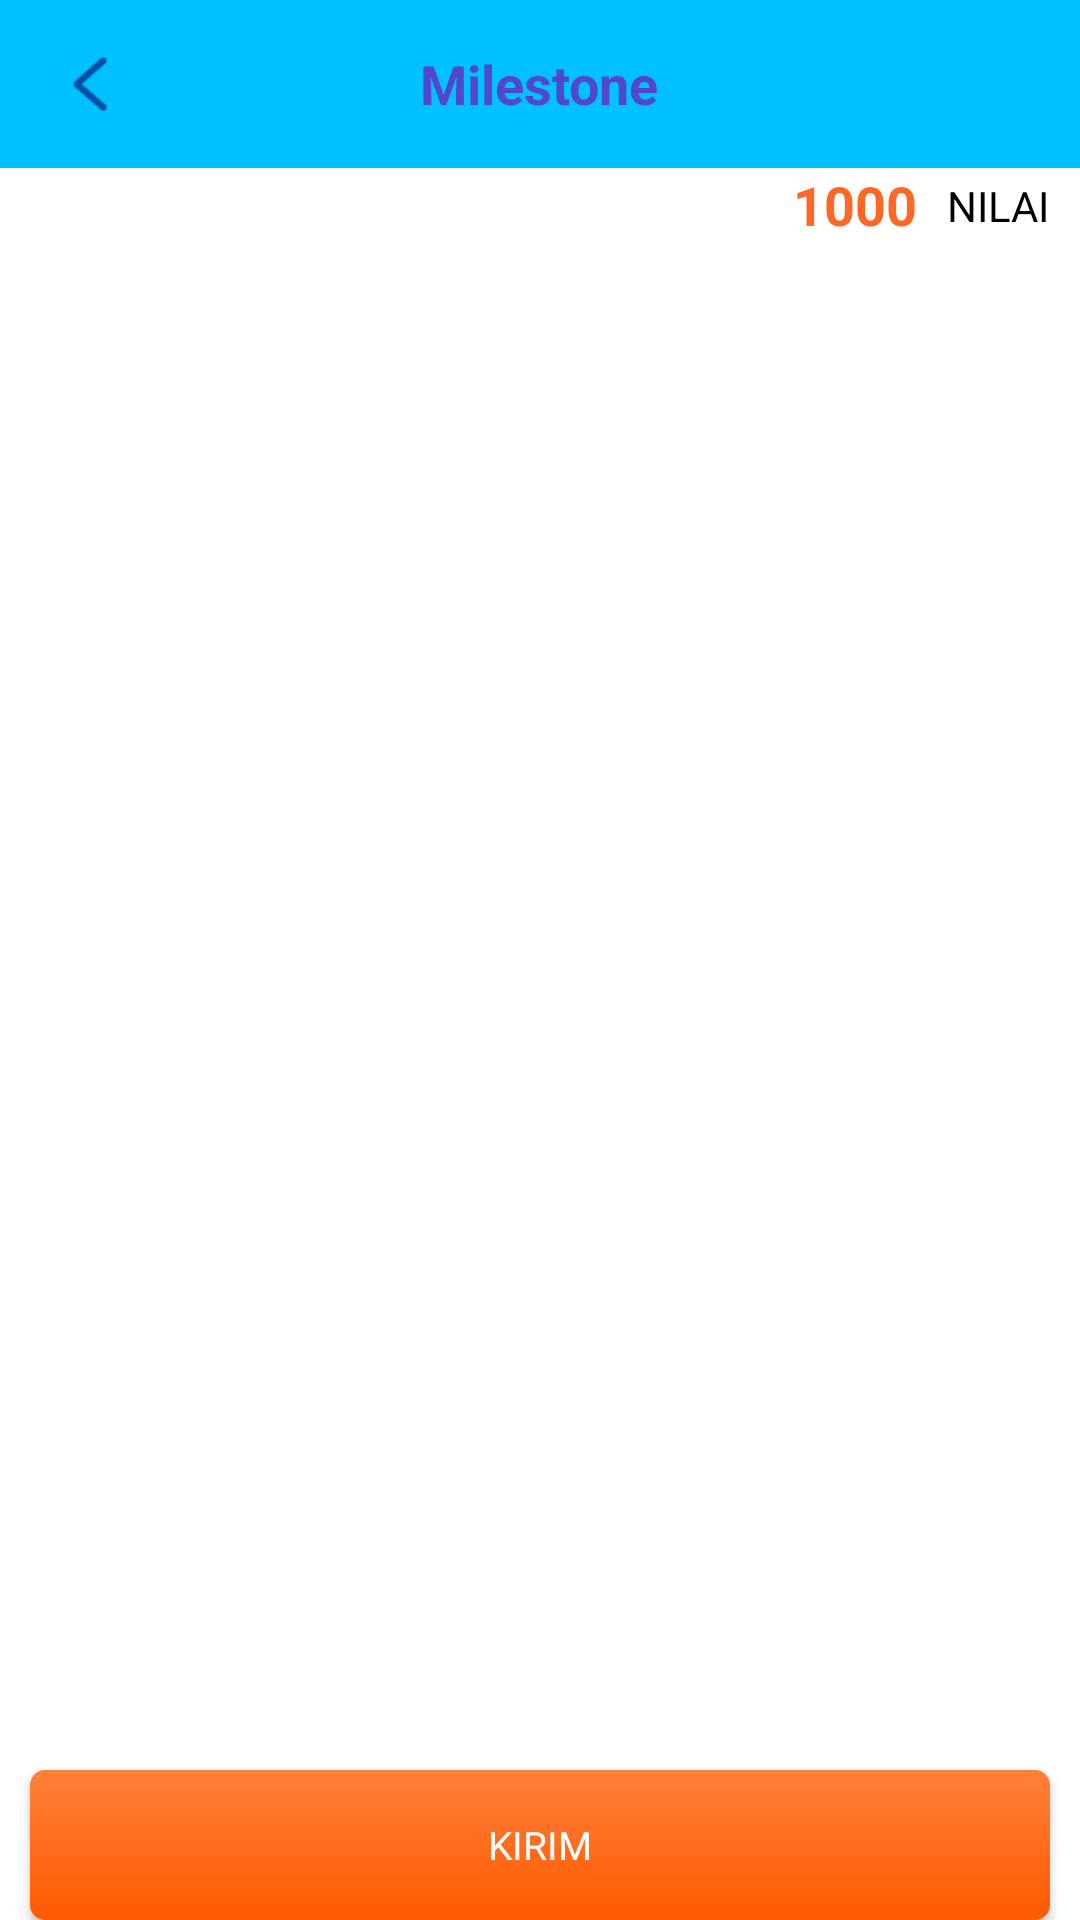

Screen size 1080×1920. Icon name, then its center in pixels as (x=x, y=y):
back: (x=90, y=84)
